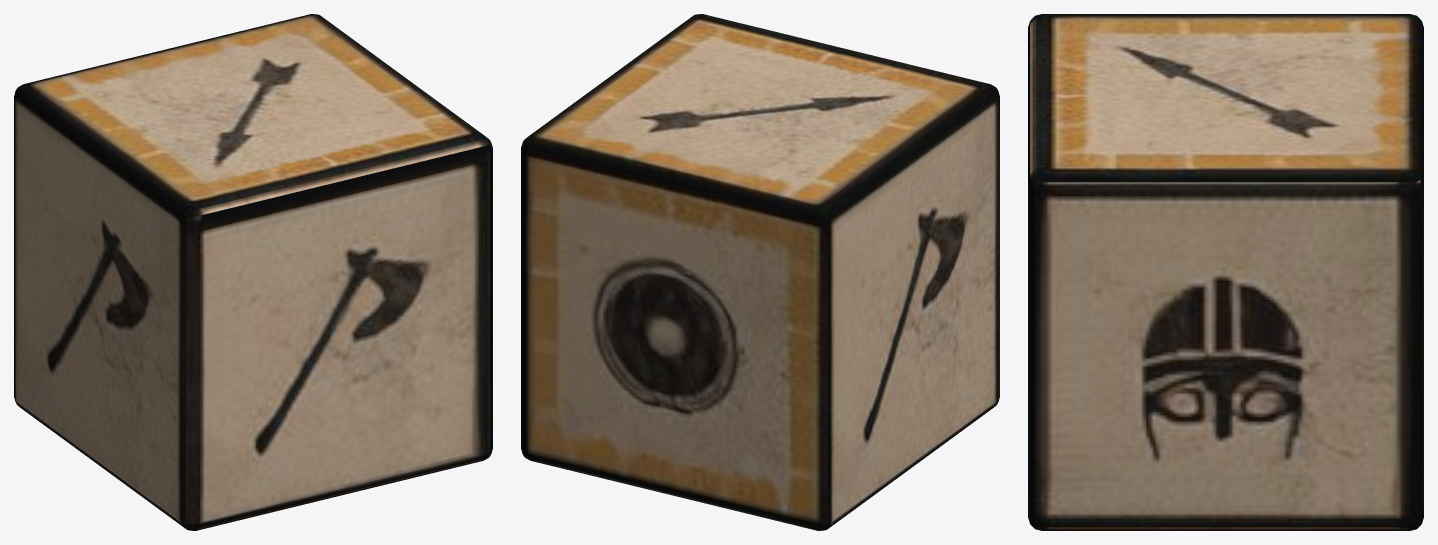
File: dice5.glb
3 views of the same model, side by side, from view 1: azimuth 30°, elevation 25°; view 2: azimuth 150°, elevation 25°; view 3: azimuth 270°, elevation 25° (orthographic). The views are drawn at different scales.
Visible parts, largest first — view 1: Cube; view 2: Cube; view 3: Cube.
Part boxes in pixels (box(x1,y1,x2,y2)): Cube: box(14, 14, 492, 530); Cube: box(521, 14, 999, 530); Cube: box(1028, 14, 1423, 530).
Bounding box in the file's own units: 2 × 2 × 2.
1 material, 1 textured.
